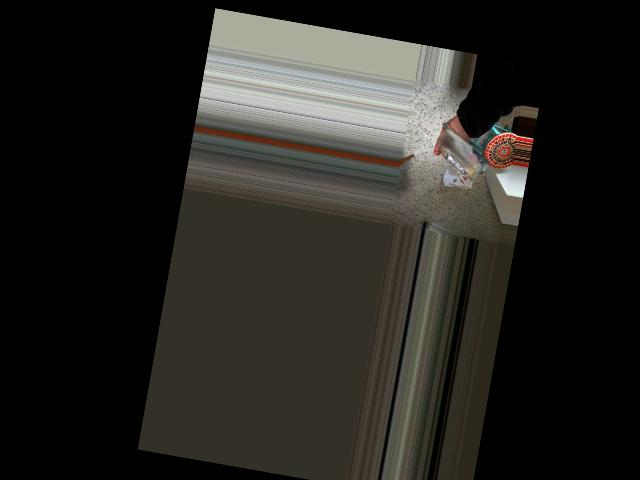cheese: (423, 116, 511, 201)
